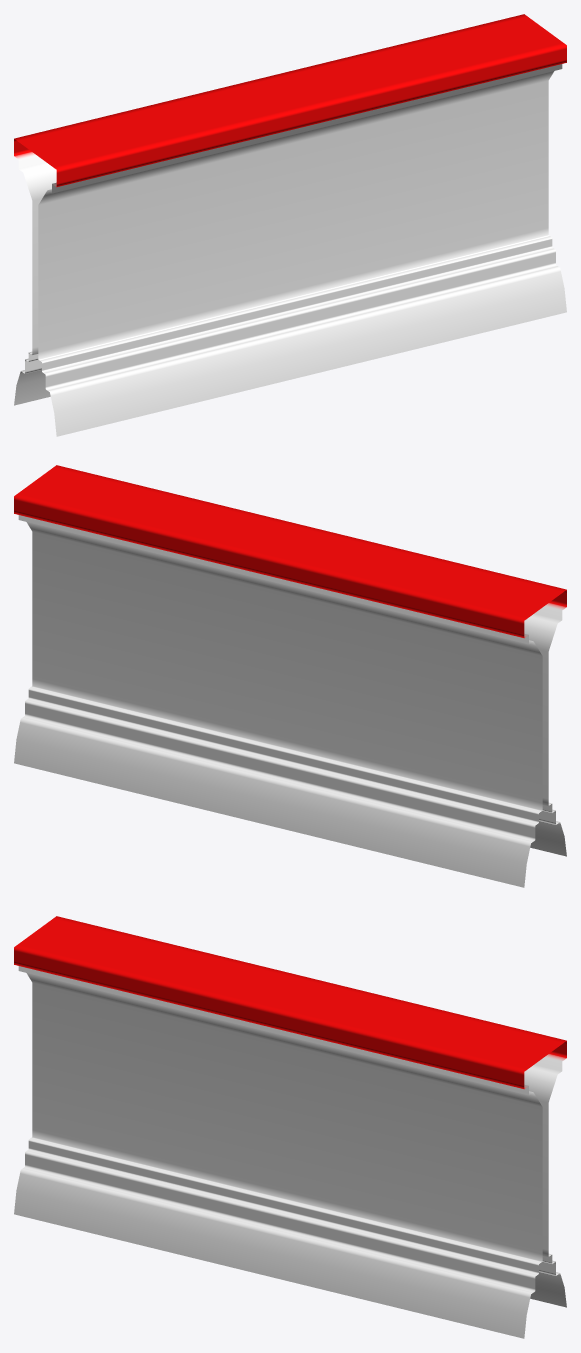
File: SM_RailB2m.fbx
3 renders of one model, top to bottom at view 1: azimuth 30°, elevation 25°; view 2: azimuth 150°, elevation 25°; view 3: azimuth 330°, elevation 25°, orthographic.
Parts seen in each view (by area): view 1: SM_RailB2m; view 2: SM_RailB2m; view 3: SM_RailB2m.
Boxes of the visible parts, x1,y1,x2,y2 form: SM_RailB2m: [14, 14, 566, 436]; SM_RailB2m: [14, 465, 566, 887]; SM_RailB2m: [14, 916, 566, 1338].
Bounding box in the file's own units: 200 × 100 × 28.95.
